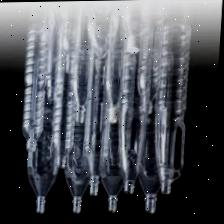plastic: (151, 7, 202, 198), (23, 32, 70, 214), (100, 40, 141, 214), (140, 48, 181, 218), (64, 42, 102, 218), (19, 22, 56, 154), (100, 0, 134, 126), (137, 1, 172, 118), (71, 0, 103, 126), (40, 1, 72, 106)
